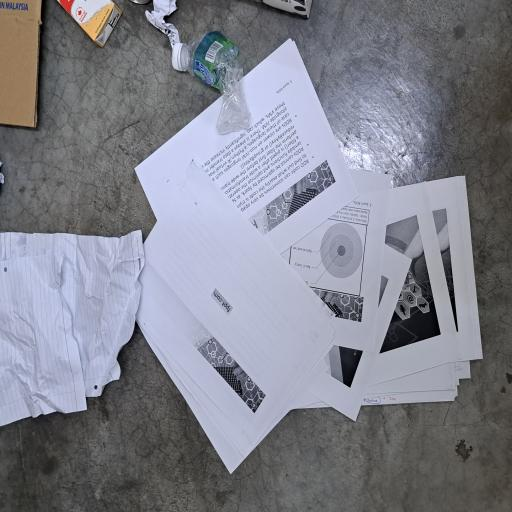cardboard: (284, 0, 384, 63)
drink carton: (349, 74, 384, 163)
paper: (30, 174, 358, 512), (62, 0, 212, 195), (347, 194, 384, 240)
plastic bottle: (284, 242, 360, 336)
plastic bottle cap: (331, 229, 352, 246)
